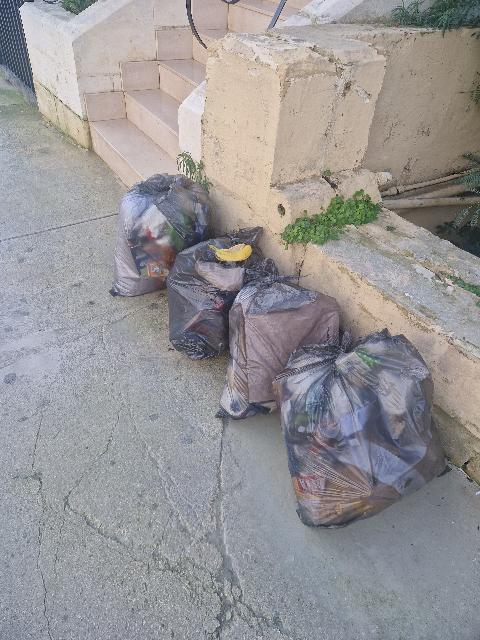Other: (215, 243, 252, 262)
Recyclable -Grey-: (273, 330, 445, 526), (216, 259, 339, 419), (167, 227, 264, 360), (111, 174, 215, 295)
